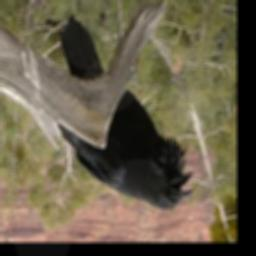Crow: (57, 14, 197, 211)
